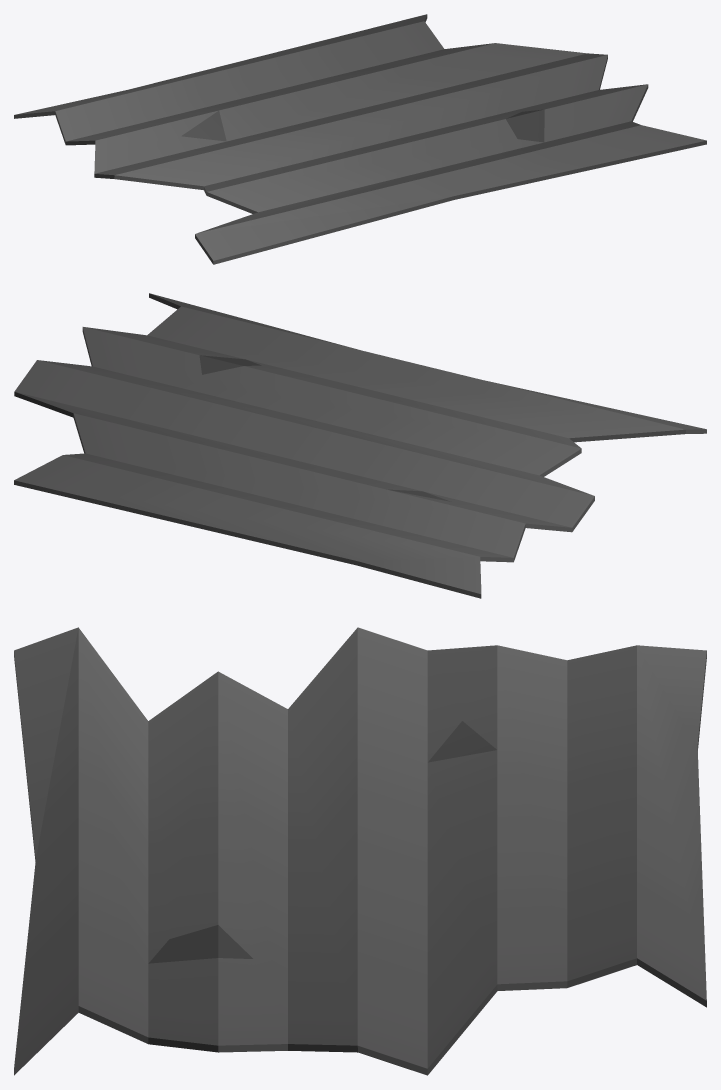
The model's file is SheetMetal_A_2.fbx.
3 views of the same model, one above another, from view 1: azimuth 30°, elevation 25°; view 2: azimuth 150°, elevation 25°; view 3: azimuth 270°, elevation 25° (orthographic). The views are drawn at different scales.
Visible parts, largest first — view 1: SheetMetal_A_2; view 2: SheetMetal_A_2; view 3: SheetMetal_A_2.
Part boxes in pixels (x1,y1,x2,y2): SheetMetal_A_2: (14, 14, 706, 264); SheetMetal_A_2: (14, 293, 706, 598); SheetMetal_A_2: (14, 627, 706, 1075).
Bounding box in the file's own units: 137 × 4.58 × 96.05.
